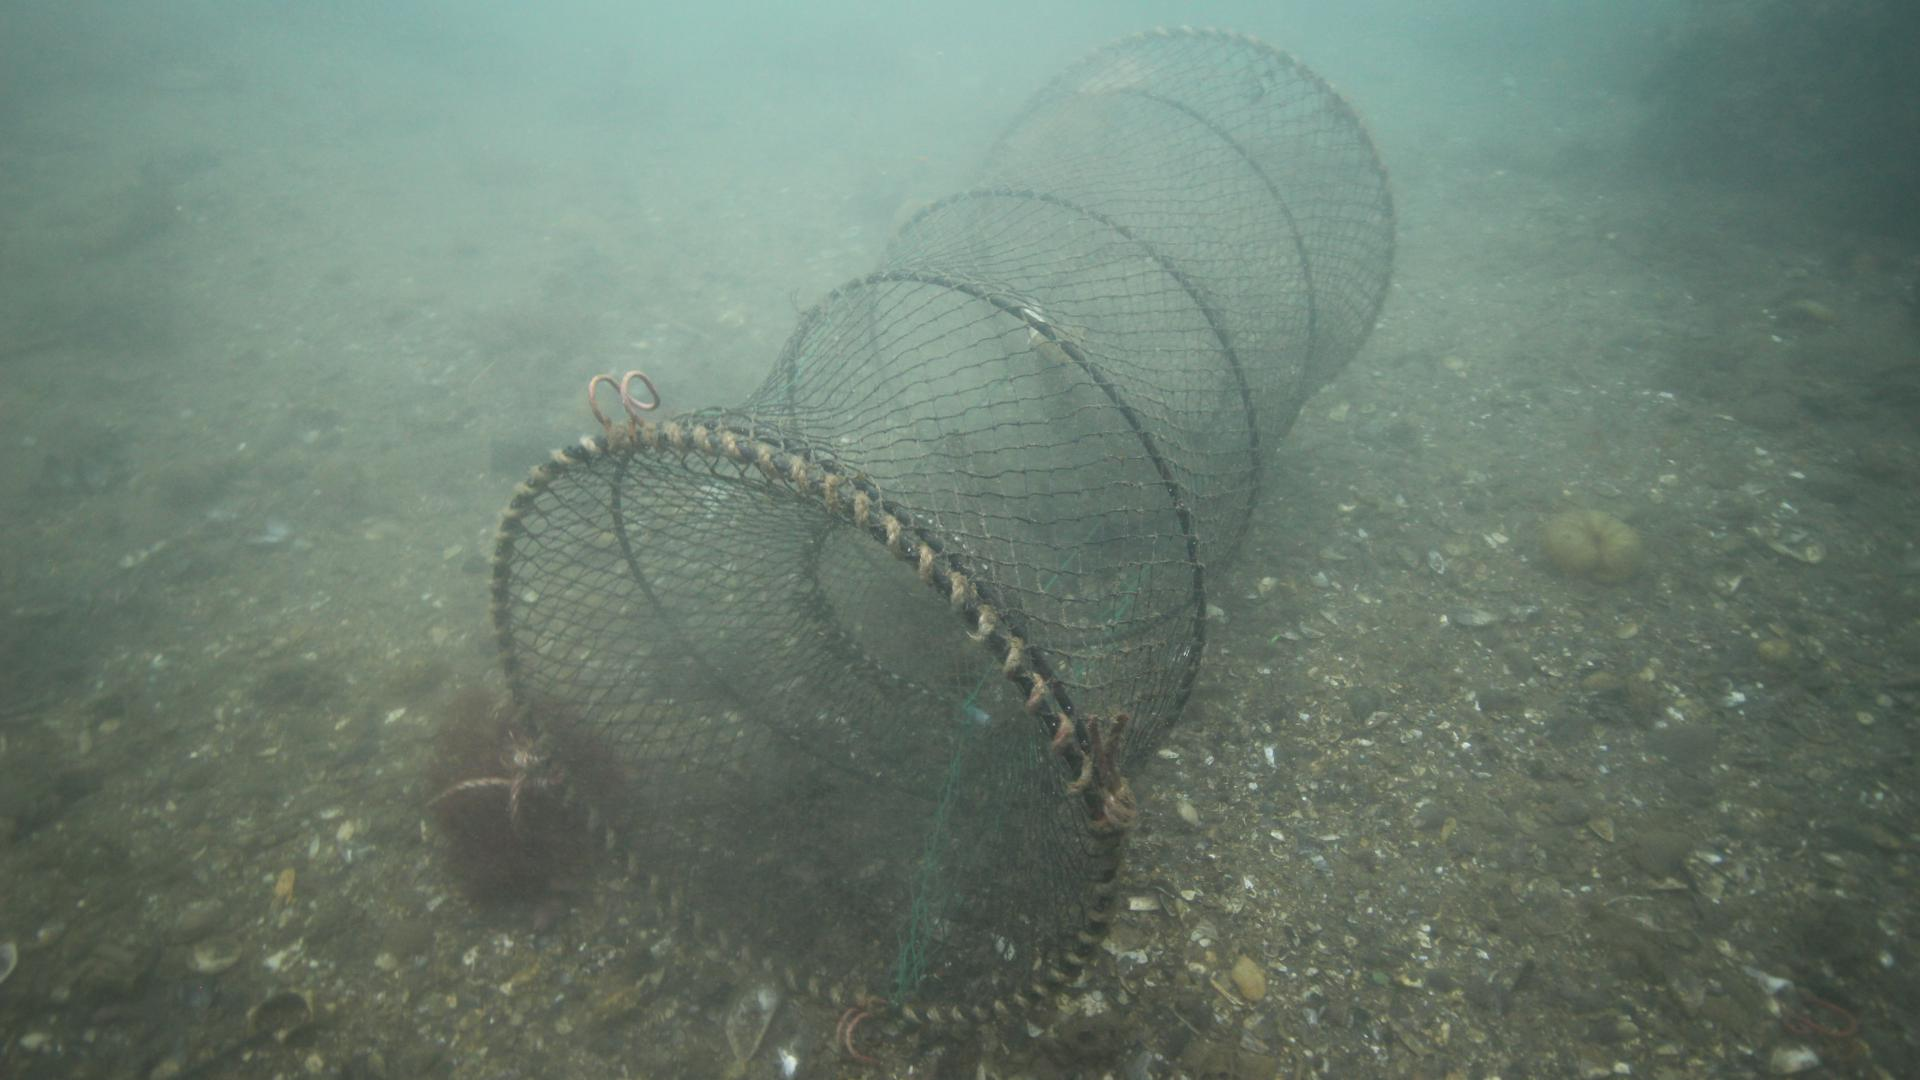spring fish trap: (487, 25, 1396, 1027)
